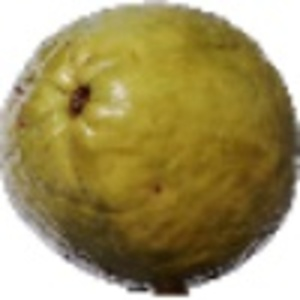goiaba: (3, 3, 298, 284)
